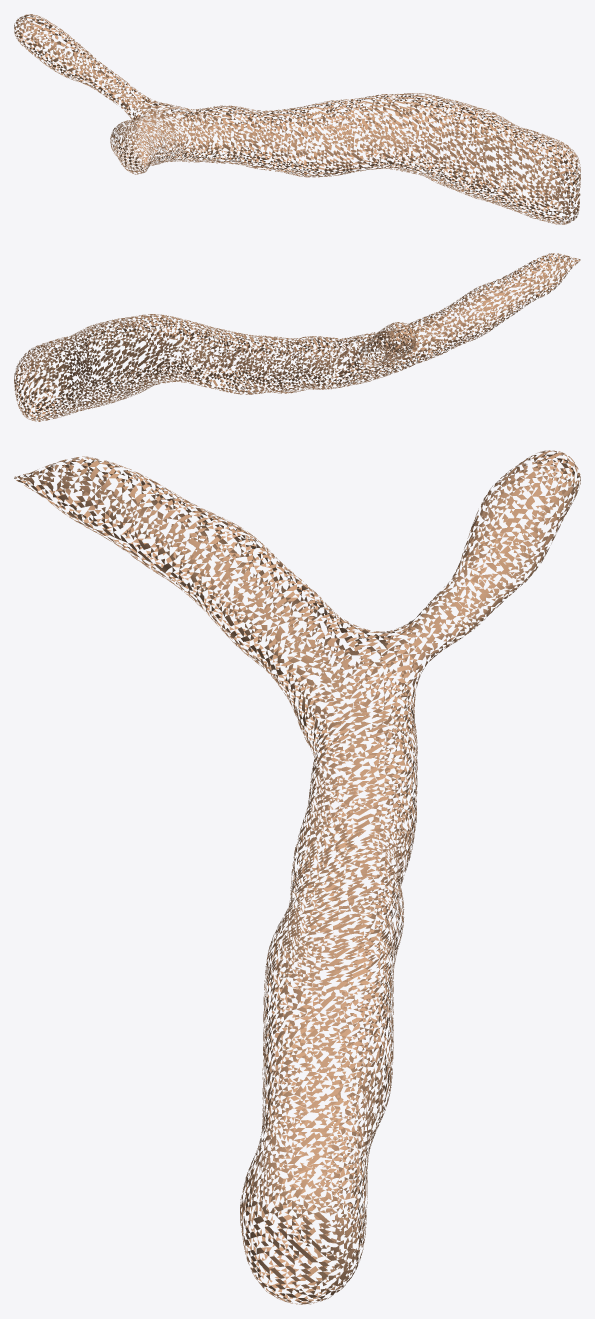
The model's file is morph_005.glb.
3 views of the same model, one above another, from view 1: azimuth 30°, elevation 25°; view 2: azimuth 150°, elevation 25°; view 3: azimuth 270°, elevation 25° (orthographic). The views are drawn at different scales.
Size of the model in its own units: 118 by 57.73 by 64.37.
